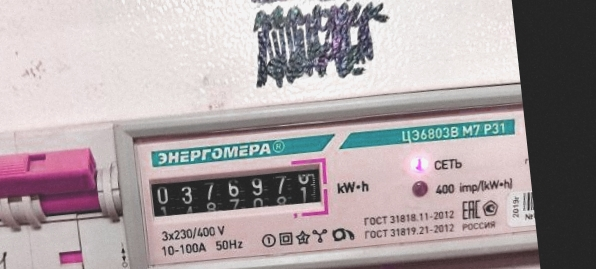0: (155, 183, 170, 205)
1: (298, 183, 310, 202)
3: (179, 183, 194, 204)
6: (225, 175, 240, 197)
7: (202, 178, 217, 201), (273, 172, 288, 195)
9: (249, 174, 264, 196)
screen: (140, 151, 336, 234)
